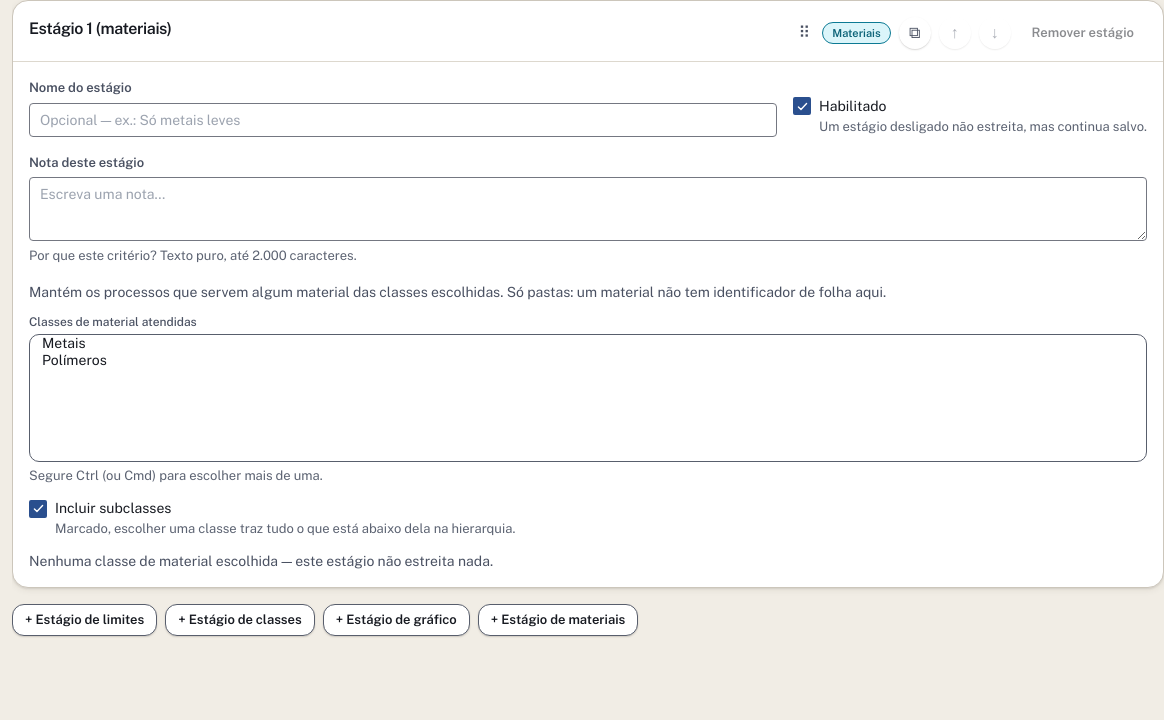
Test case: StageList in a process study › writes the absence out when no material folder is chosen
This screenshot has width=1164, height=720.
Expected: the text "Nenhuma classe de material escolhida — este estágio não estreita nada." is shown, [29, 553, 493, 569]
Select "Metais" in the dropdown labelled "Classes de material atendidas" at (588, 398), box [29, 334, 1147, 462]
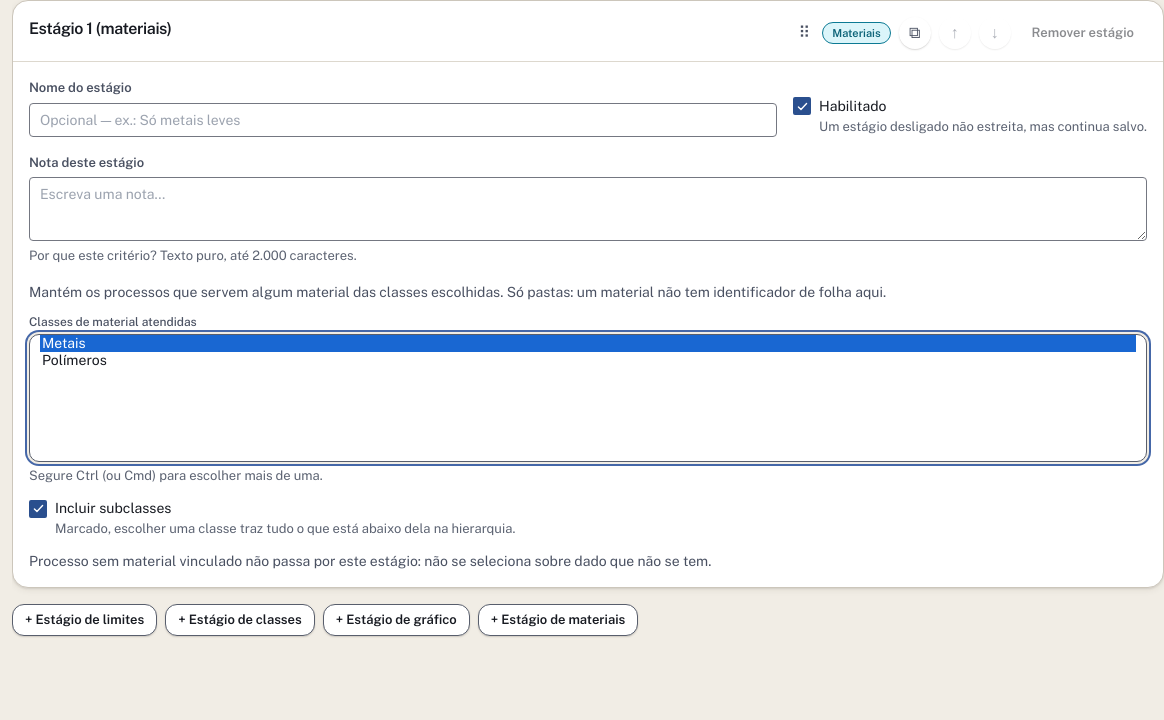
Expected: the text "Nenhuma classe de material escolhida — este estágio não estreita nada." is gone
Expected: the text "Processo sem material vinculado não passa por este estágio: não se seleciona sobre dado que não se tem." is shown, [29, 553, 711, 569]
